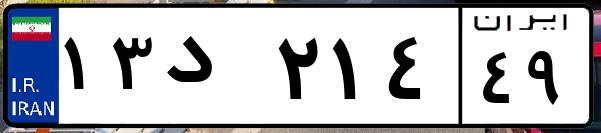1: (330, 28, 385, 110), (57, 26, 110, 100)
2: (270, 28, 330, 110)
3: (110, 28, 158, 98)
4: (385, 28, 445, 110), (475, 38, 525, 113)
9: (525, 38, 570, 115)
د: (158, 20, 270, 120)
